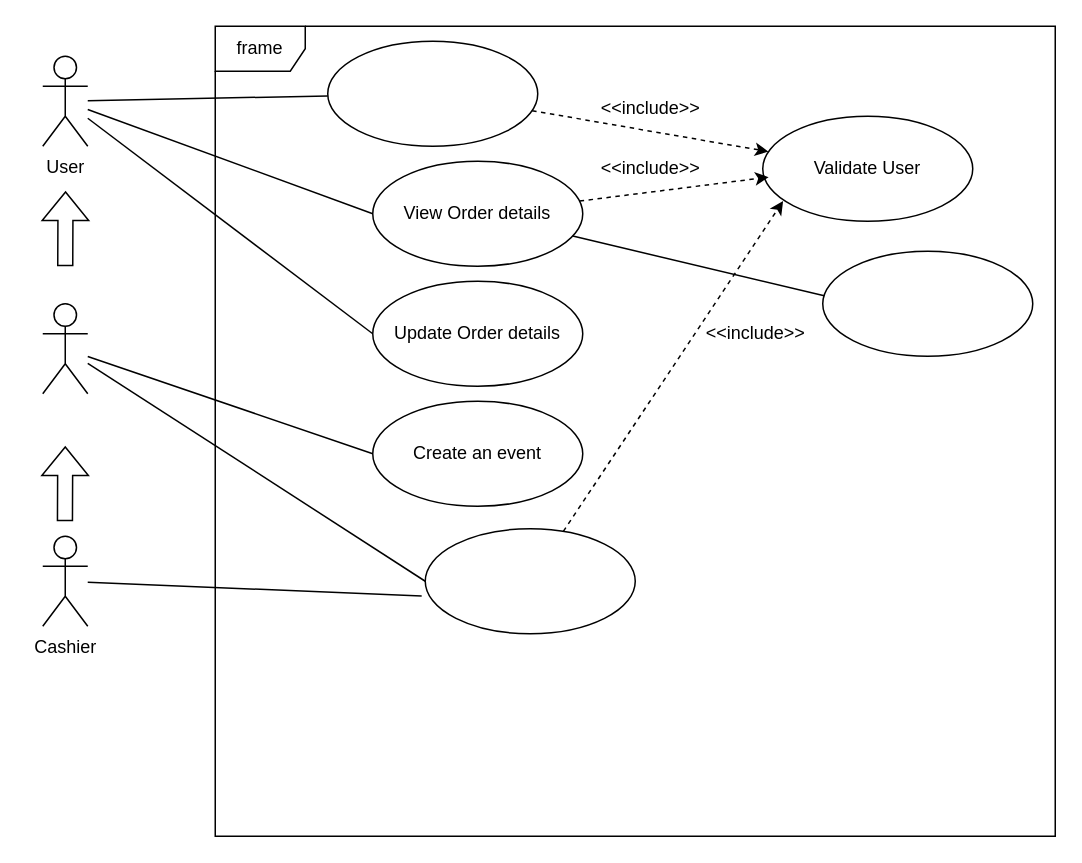
Image size: 1082x863. Some labels were removed from this diagram. The centre of each missing label's shape, as x and y in pixels:
"Browse food items" goes at point (529, 580).
"Customer" goes at point (64, 348).
"Order Food" goes at point (432, 93).
"View all orders" goes at point (927, 303).
